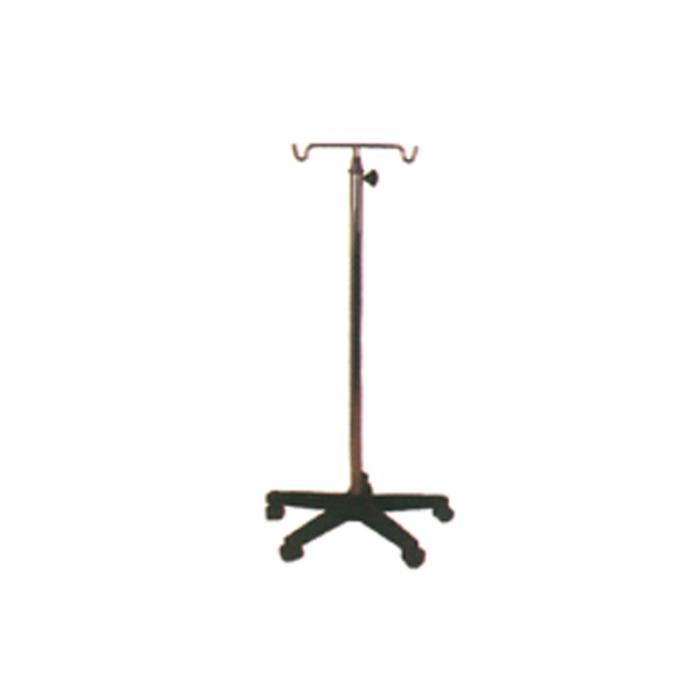Saline Stand: (263, 138, 455, 568)
